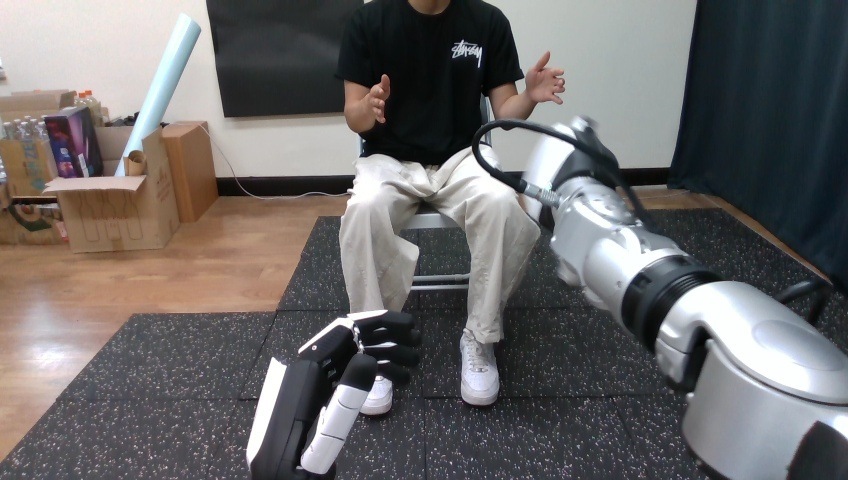left robot hand: (473, 118, 847, 478), (247, 310, 420, 479), (524, 51, 564, 103)
